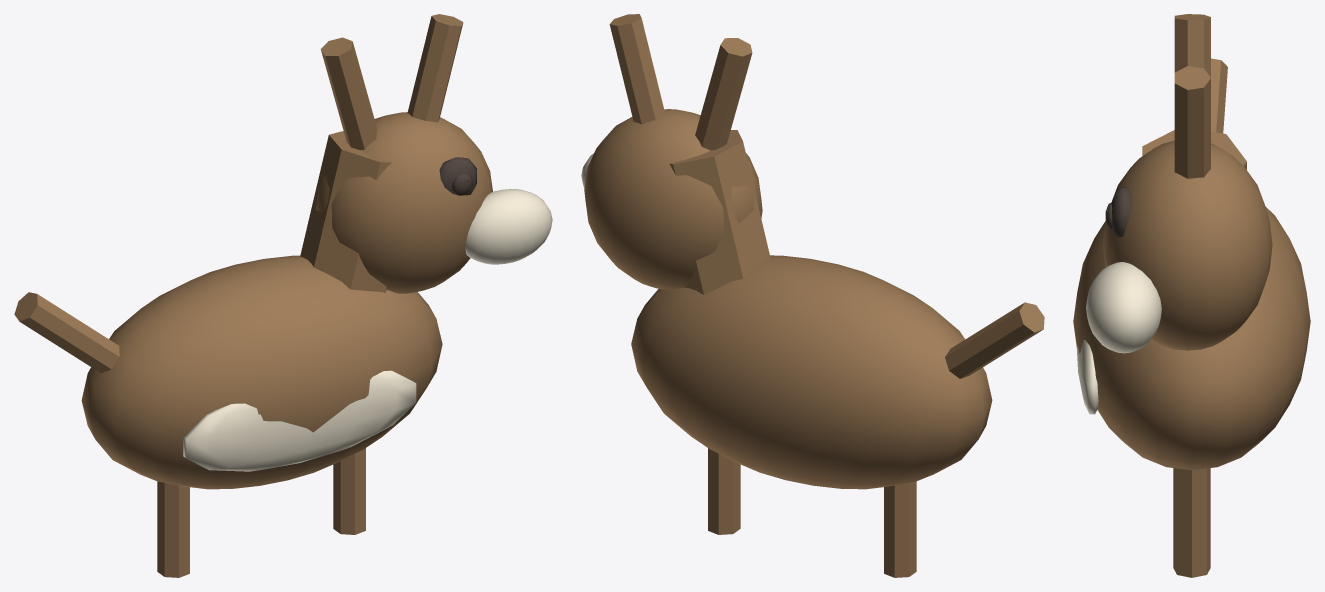
The model's file is deer.glb.
The picture shows the model from 3 angles, left to right: view 1: azimuth 30°, elevation 25°; view 2: azimuth 150°, elevation 25°; view 3: azimuth 270°, elevation 25°; orthographic projection. The views are drawn at different scales.
Visible parts, largest first — view 1: deer_root; view 2: deer_root; view 3: deer_root.
Part boxes in pixels (<box>): deer_root: <box>14,14,552,577</box>; deer_root: <box>581,14,1044,577</box>; deer_root: <box>1073,14,1310,577</box>.
Size of the model in its own units: 1.48 by 1.4 by 0.5476.
